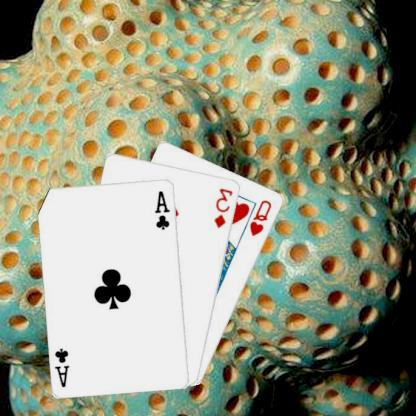3D: (214, 185, 236, 230)
AC: (54, 345, 73, 388), (154, 188, 173, 230)
QH: (249, 197, 275, 238)
